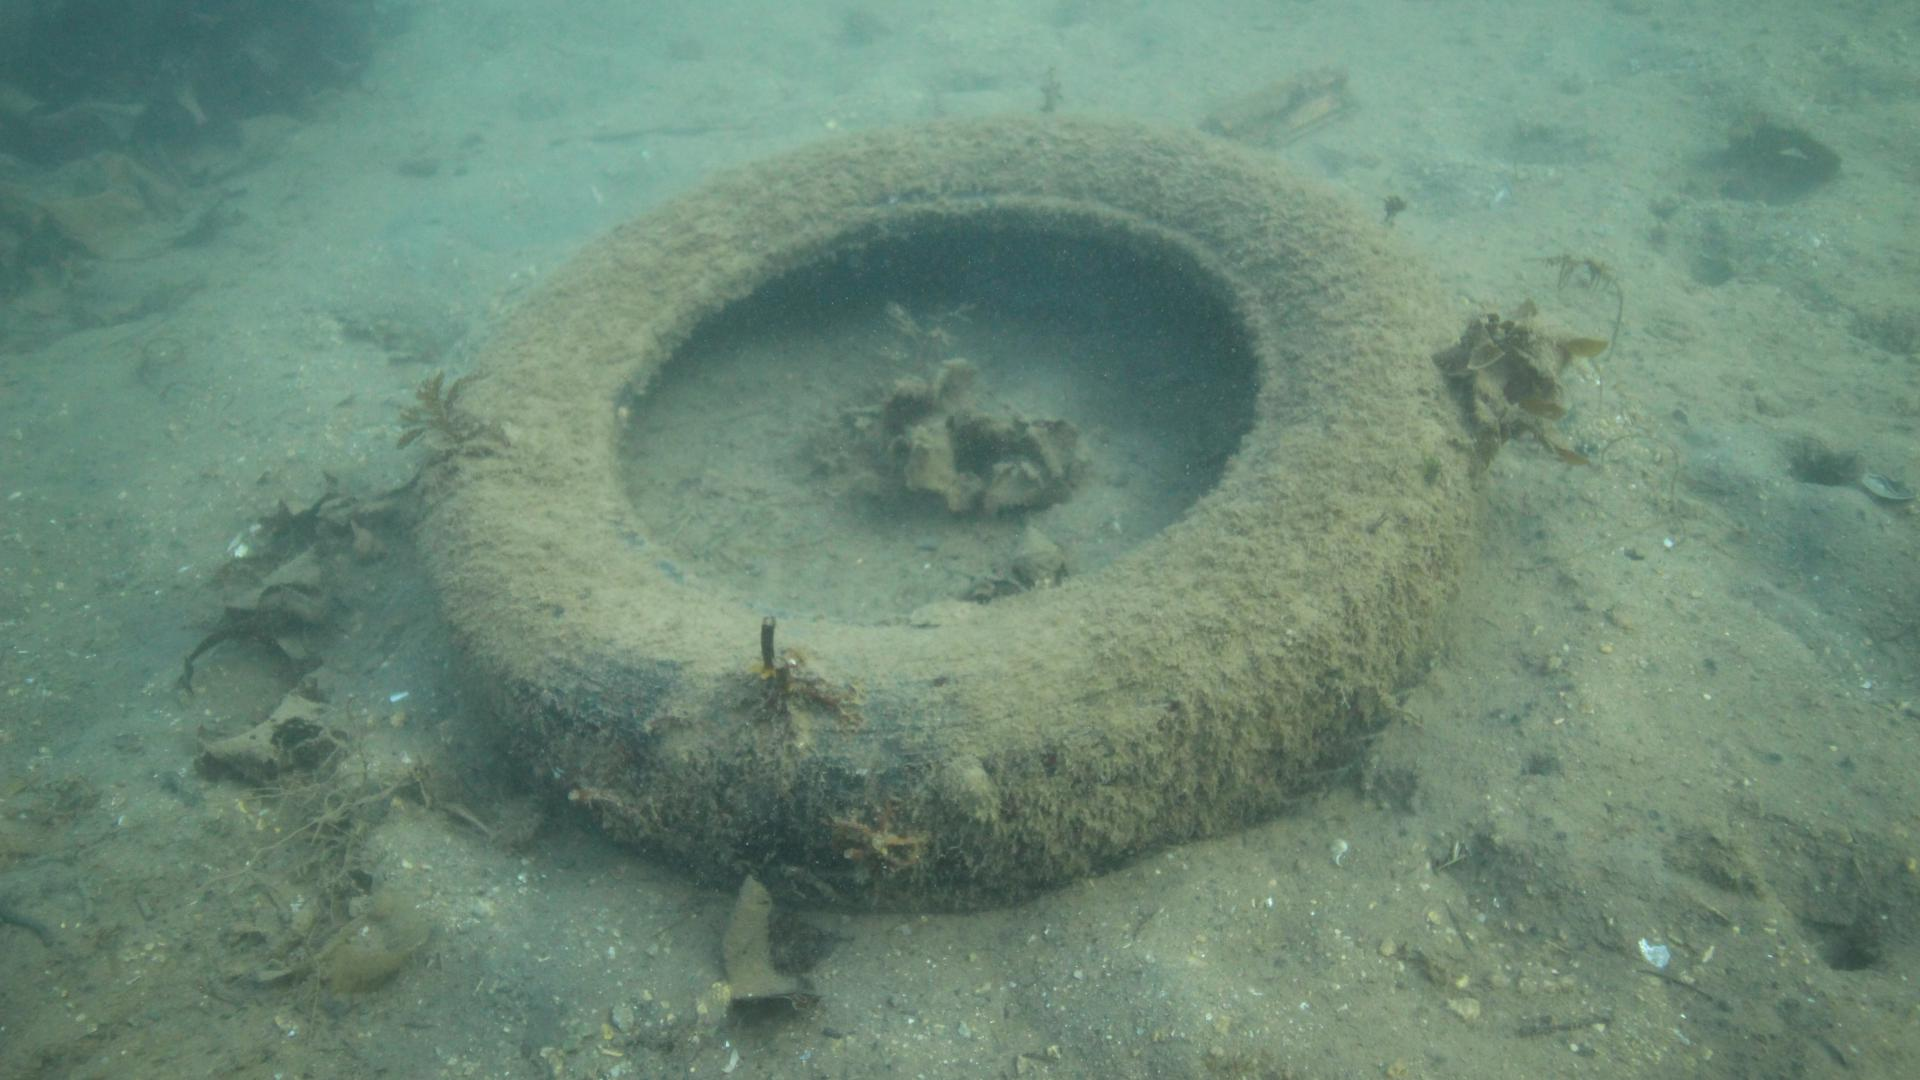tire: (407, 113, 1481, 915)
